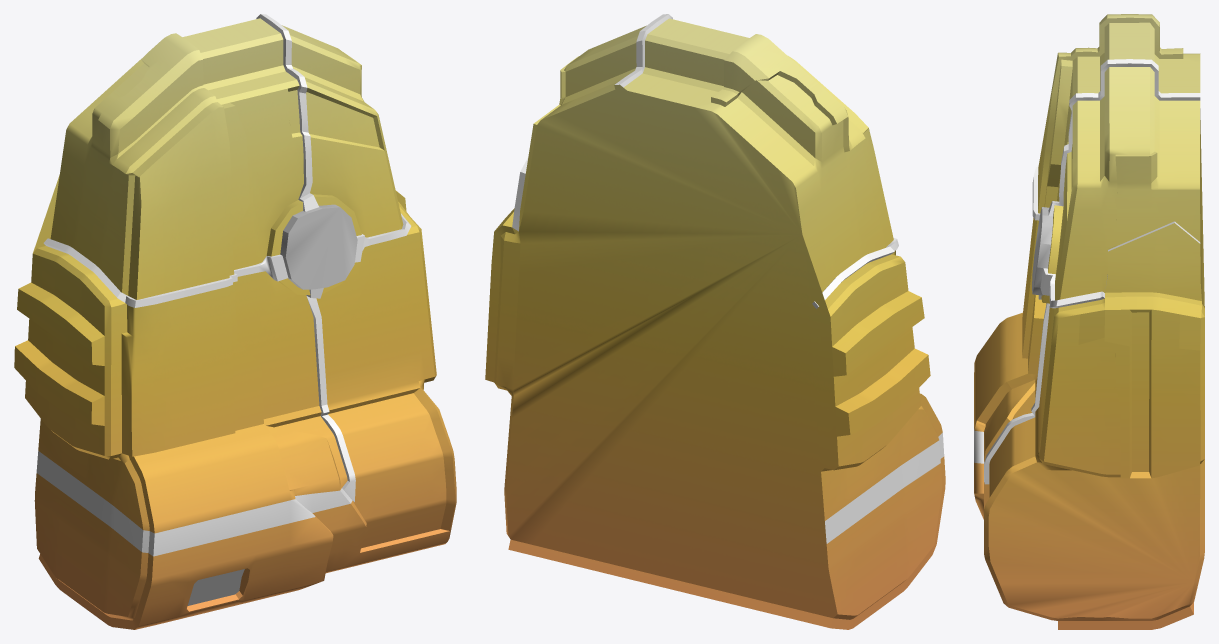
The model's file is backpacklv3.fbx.
3 renders of one model, left to right at view 1: azimuth 30°, elevation 25°; view 2: azimuth 150°, elevation 25°; view 3: azimuth 270°, elevation 25°, orthographic. The views are drawn at different scales.
Visible parts, largest first — view 1: Cube; view 2: Cube; view 3: Cube.
Part boxes in pixels (bbox=[...]): Cube: bbox=[14, 14, 456, 629]; Cube: bbox=[485, 14, 945, 629]; Cube: bbox=[974, 14, 1204, 629].
Size of the model in its own units: 399 by 574 by 231.
